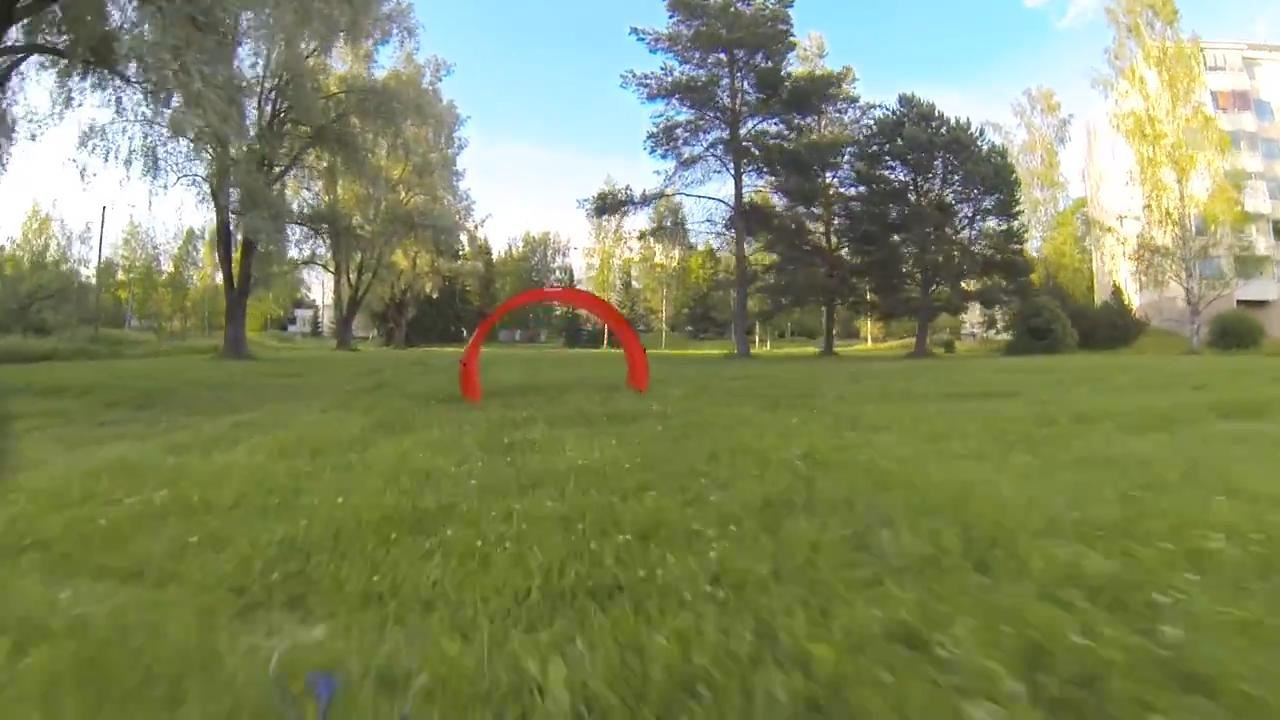gate: (457, 283, 656, 404)
